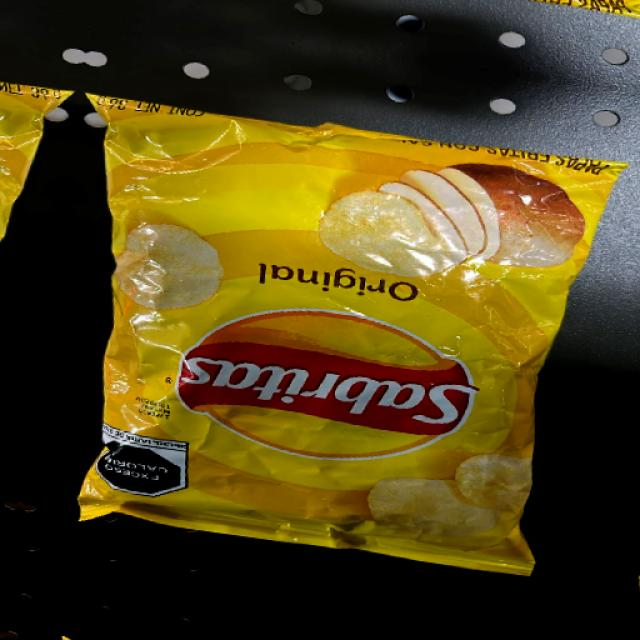sabritasOriginal: (127, 114, 524, 536)
